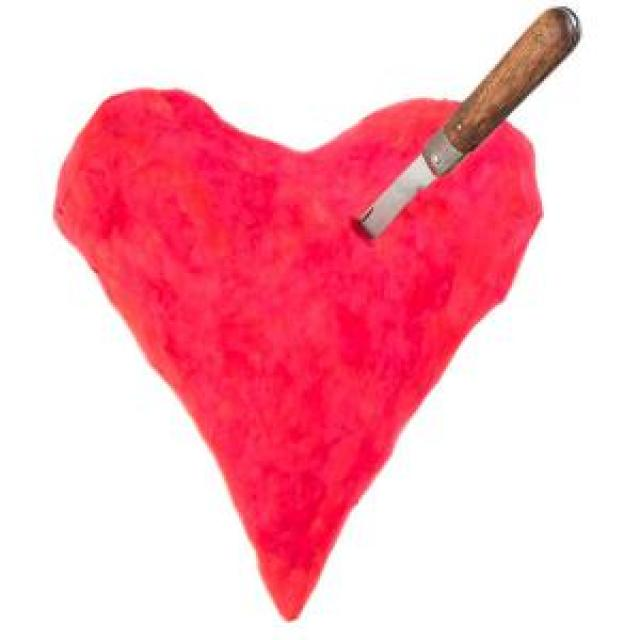knife: (331, 0, 614, 257)
